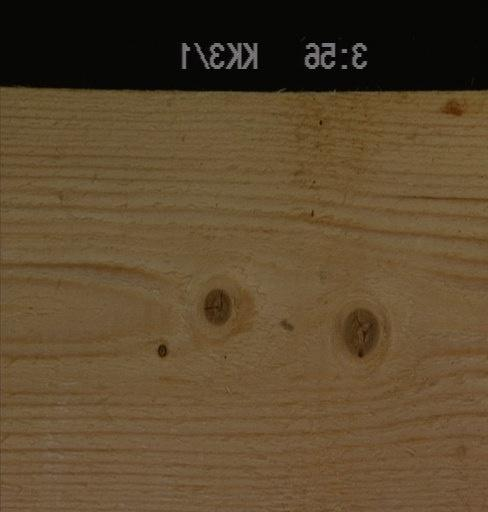dry_knot: (155, 342, 168, 357)
sound_knot: (339, 305, 382, 358), (202, 285, 233, 325)
